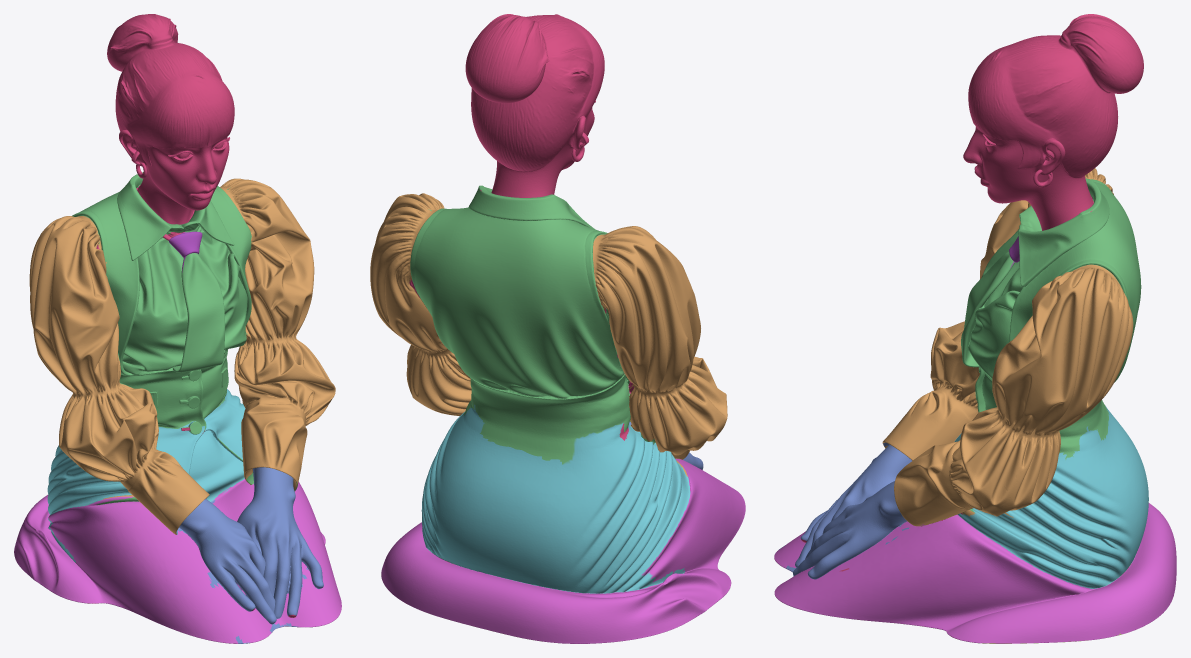
3 renders of one model, left to right at view 1: azimuth 30°, elevation 25°; view 2: azimuth 150°, elevation 25°; view 3: azimuth 270°, elevation 25°, orthographic. The views are drawn at different scales.
Visible parts, largest first — view 1: pred_mesh_gc.ply; view 2: pred_mesh_gc.ply; view 3: pred_mesh_gc.ply.
Boxes of the visible parts, x1,y1,x2,y2 form: pred_mesh_gc.ply: [14, 14, 341, 643]; pred_mesh_gc.ply: [370, 14, 745, 643]; pred_mesh_gc.ply: [774, 14, 1176, 643].
Bounding box in the file's own units: 0.4327 × 0.7551 × 0.4925.
